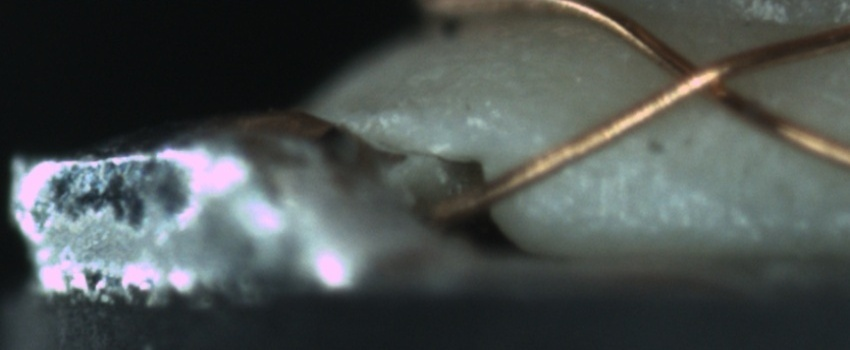CL: (646, 43, 748, 111)
